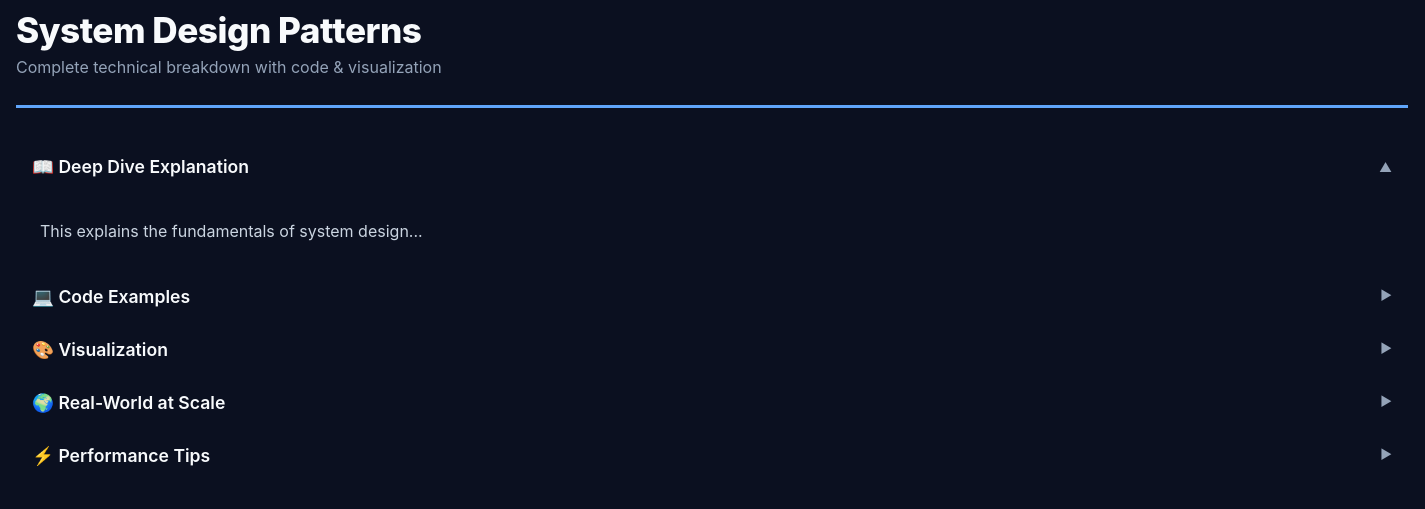
DetailedExplanation › renders code content in code block
This screenshot has width=1425, height=509.
Click the heading "💻 Code Examples" at point(111, 296), box x1=32 y1=286 x2=190 y2=307
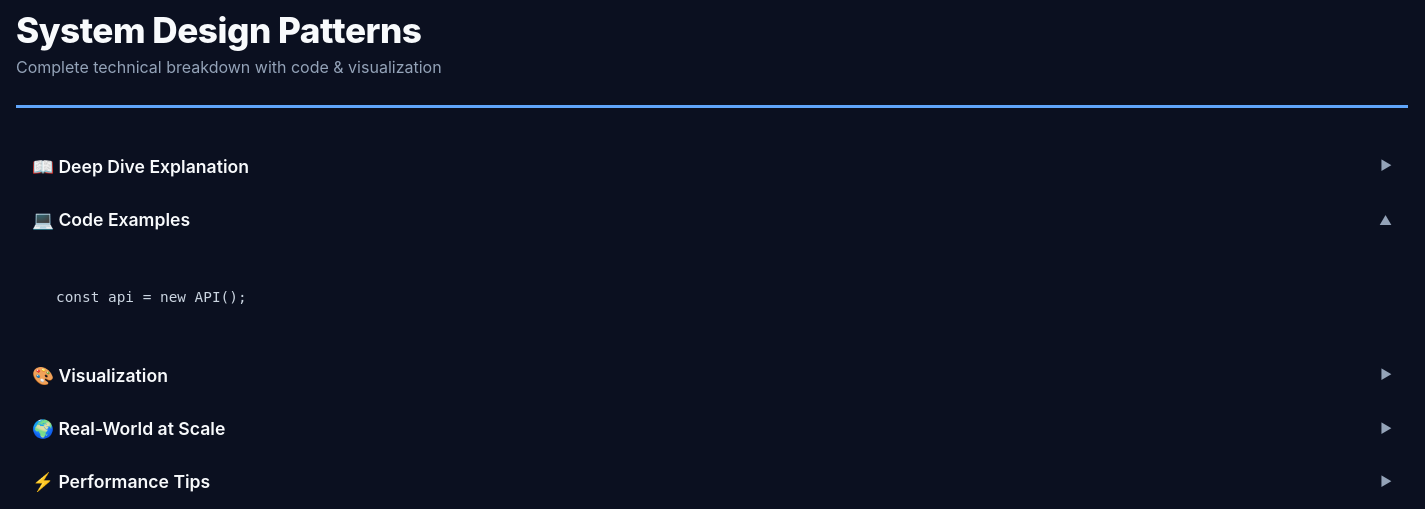
expect the text "const api = new API();" is shown: met, box x1=56 y1=289 x2=247 y2=305
